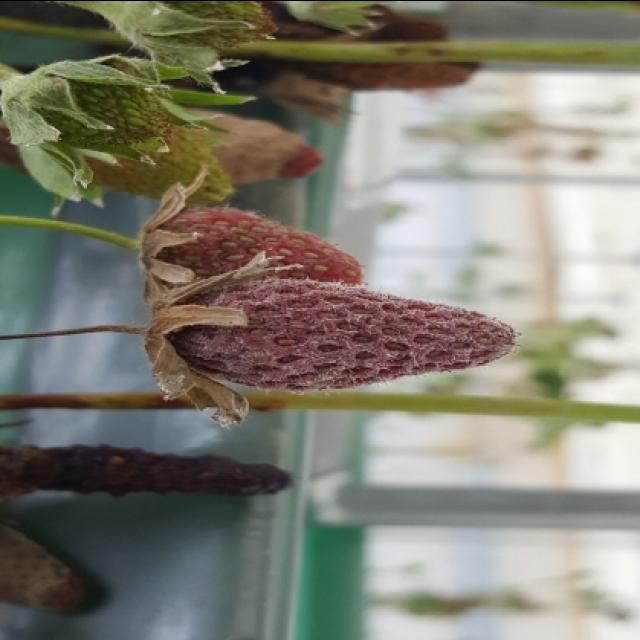Powdery Mildew Fruit: (153, 261, 518, 393), (140, 182, 365, 298)
